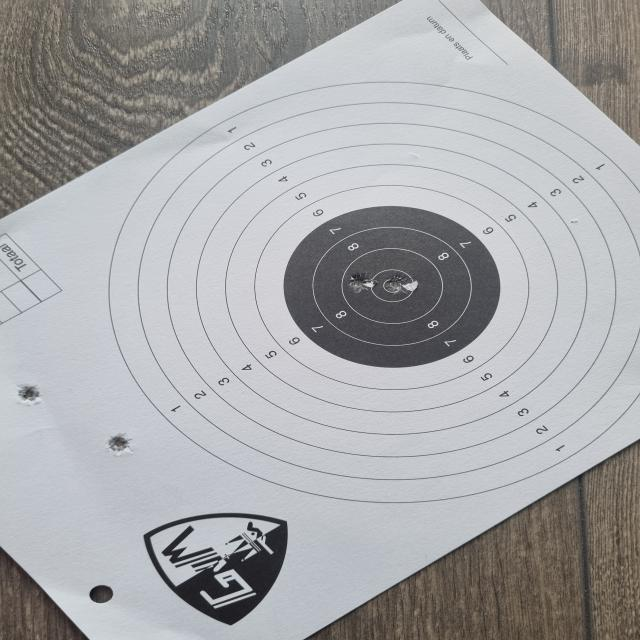0: (108, 432, 133, 453), (17, 385, 40, 402)
10: (387, 275, 417, 295), (348, 272, 376, 292)
Target: (109, 80, 640, 504)
black_contour: (284, 205, 501, 368)
